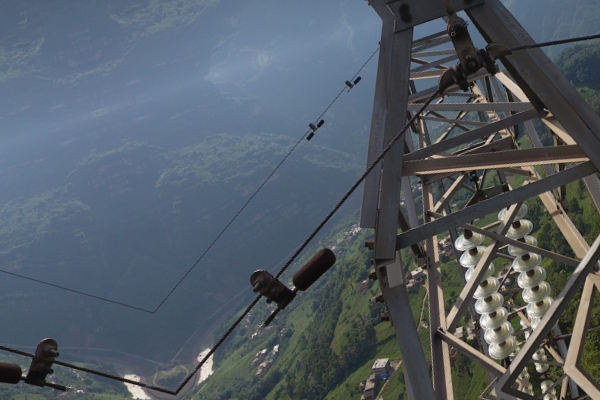damper: (304, 118, 325, 142)
damper_defect: (247, 245, 337, 330), (1, 335, 73, 397), (343, 74, 361, 95)
